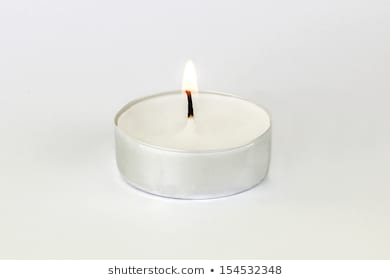Fire: (176, 58, 204, 117)
